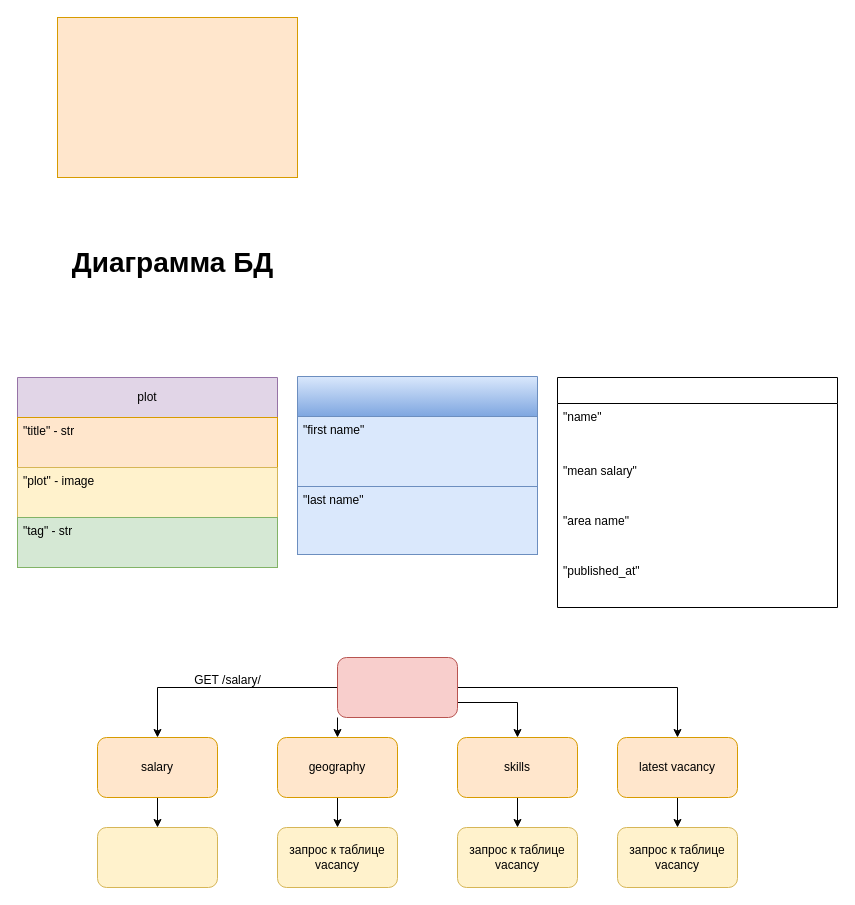
This 855x905 diagram has some shape labels left out. The box of each missing label's shape, as (x1, y1, x2, y2) in pixels:
Root Page: (336, 656, 458, 718)
siteUser: (296, 376, 538, 554)
vacancy: (556, 376, 838, 608)
запрос к таблице plot: (96, 826, 218, 888)
карта сайта: 1. главная 2. зарплата 3. география 4. навыки 5. последние вакансии: (56, 16, 298, 178)
